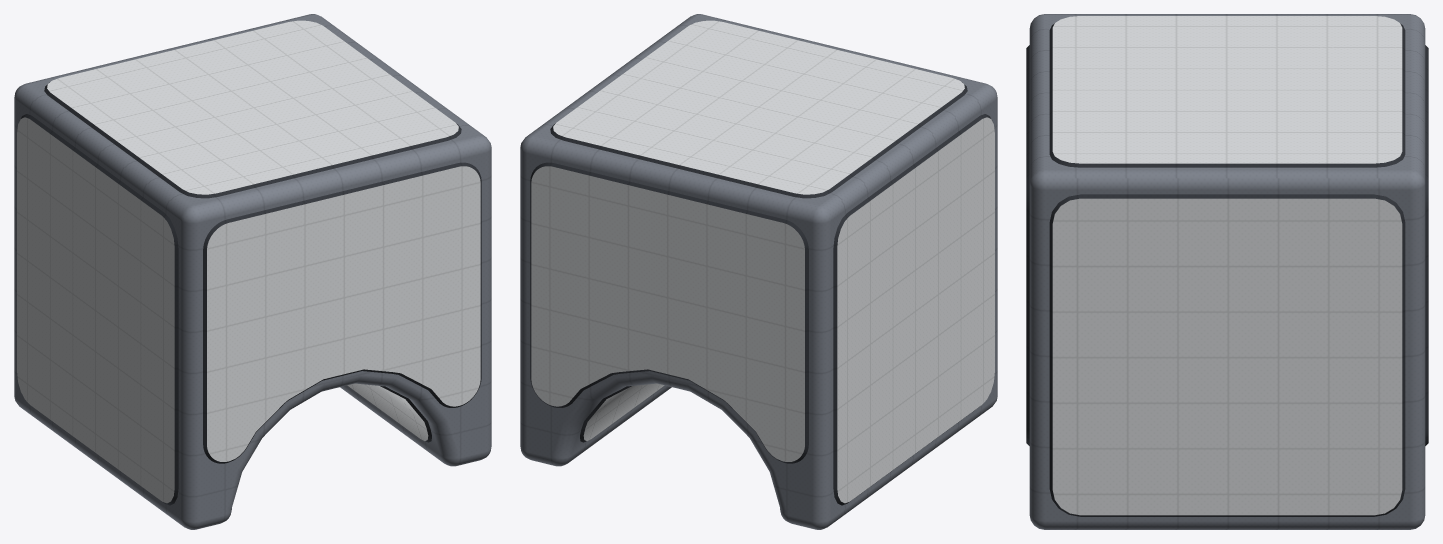
Rendered from R4B_Arch.glb.
3 views of the same model, side by side, from view 1: azimuth 30°, elevation 25°; view 2: azimuth 150°, elevation 25°; view 3: azimuth 270°, elevation 25° (orthographic). The views are drawn at different scales.
Parts seen in each view (by area): view 1: R4B_Arch; view 2: R4B_Arch; view 3: R4B_Arch.
Boxes of the visible parts, x1=… form: R4B_Arch: x1=14, y1=14, x2=491, y2=529; R4B_Arch: x1=520, y1=14, x2=997, y2=529; R4B_Arch: x1=1026, y1=14, x2=1428, y2=529.
Size of the model in its own units: 0.52 by 0.516 by 0.52.
Materials: 3 (3 with a texture image).
